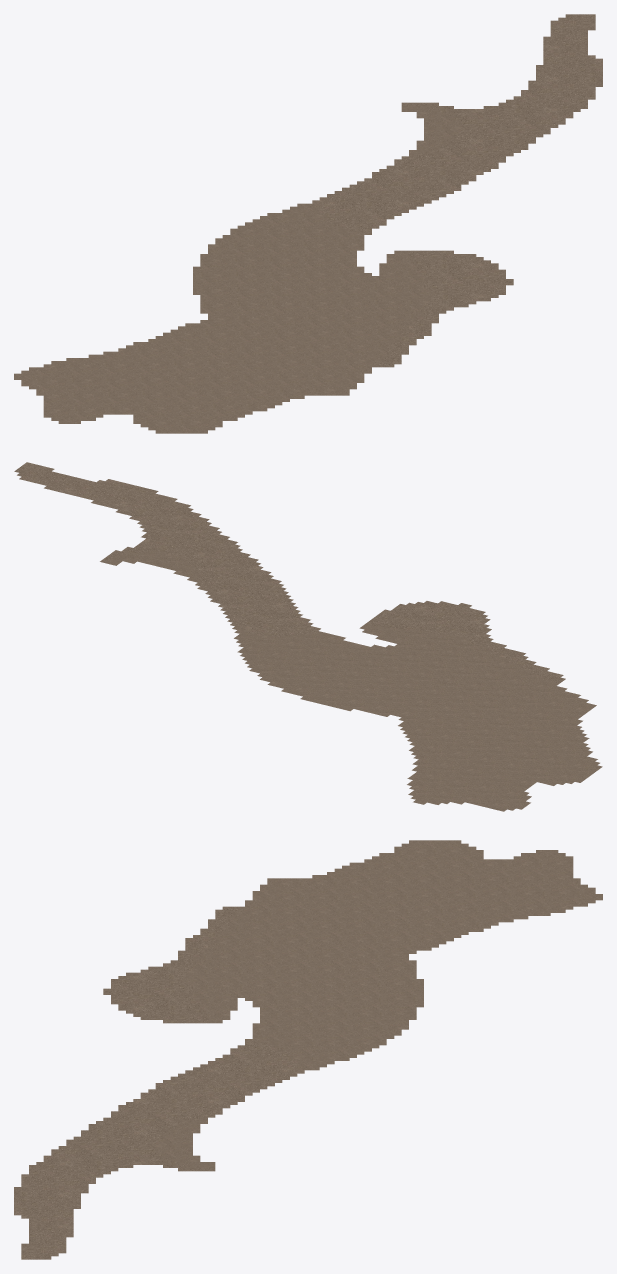
File: PATH.obj
3 views of the same model, one above another, from view 1: azimuth 90°, elevation 25°; view 2: azimuth 150°, elevation 25°; view 3: azimuth 270°, elevation 25° (orthographic). The views are drawn at different scales.
Visible parts, largest first — view 1: PamantSAT; view 2: PamantSAT; view 3: PamantSAT.
Boxes of the visible parts, left/top/right/bottom form: PamantSAT: left=14, top=14, right=602, bottom=433; PamantSAT: left=14, top=462, right=602, bottom=811; PamantSAT: left=14, top=840, right=602, bottom=1259.
Bounding box in the file's own units: 18.1 × 0 × 10.75.
Materials: 1 (1 with a texture image).
